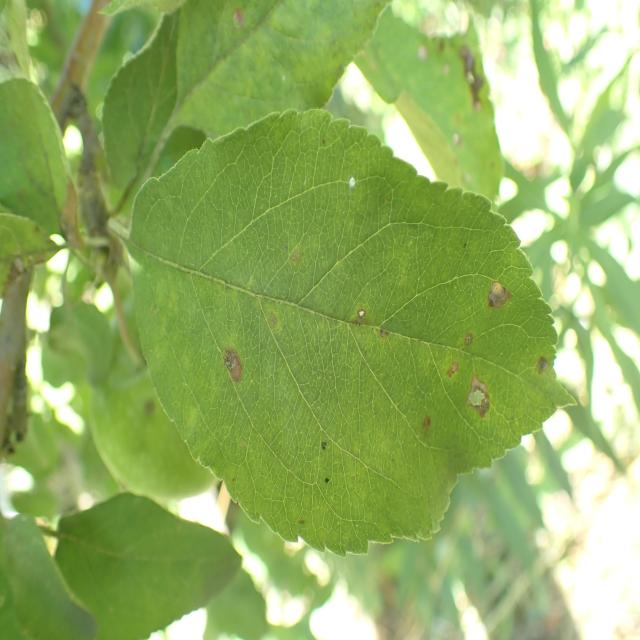frog-eye-leaf-spot: (128, 106, 580, 558)
